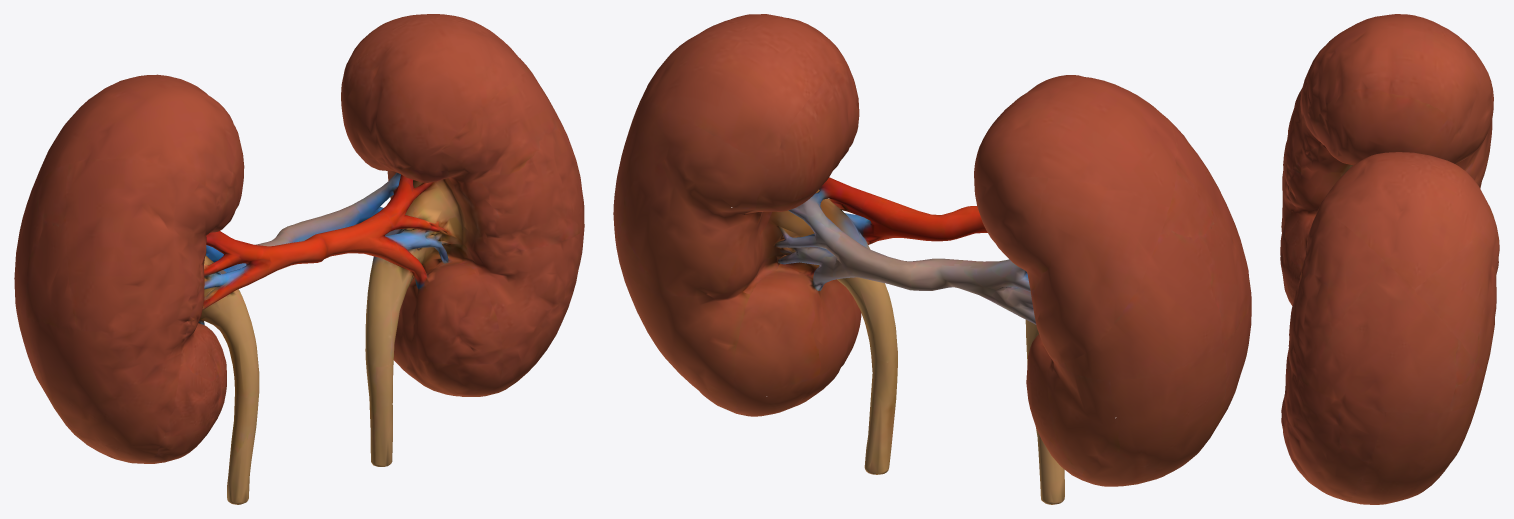
The model's file is kidneys-lod1.glb.
3 renders of one model, left to right at view 1: azimuth 30°, elevation 25°; view 2: azimuth 150°, elevation 25°; view 3: azimuth 270°, elevation 25°, orthographic. The views are drawn at different scales.
Parts seen in each view (by area): view 1: tripo_node_e5de9656-5b36-4996-8f10-3690a202b494; view 2: tripo_node_e5de9656-5b36-4996-8f10-3690a202b494; view 3: tripo_node_e5de9656-5b36-4996-8f10-3690a202b494.
Part boxes in pixels (<box>): tripo_node_e5de9656-5b36-4996-8f10-3690a202b494: <box>14,14,584,504</box>; tripo_node_e5de9656-5b36-4996-8f10-3690a202b494: <box>613,14,1251,504</box>; tripo_node_e5de9656-5b36-4996-8f10-3690a202b494: <box>1280,14,1499,504</box>.
Size of the model in its own units: 0.9793 by 0.7198 by 0.3716.
1 material, 1 textured.
